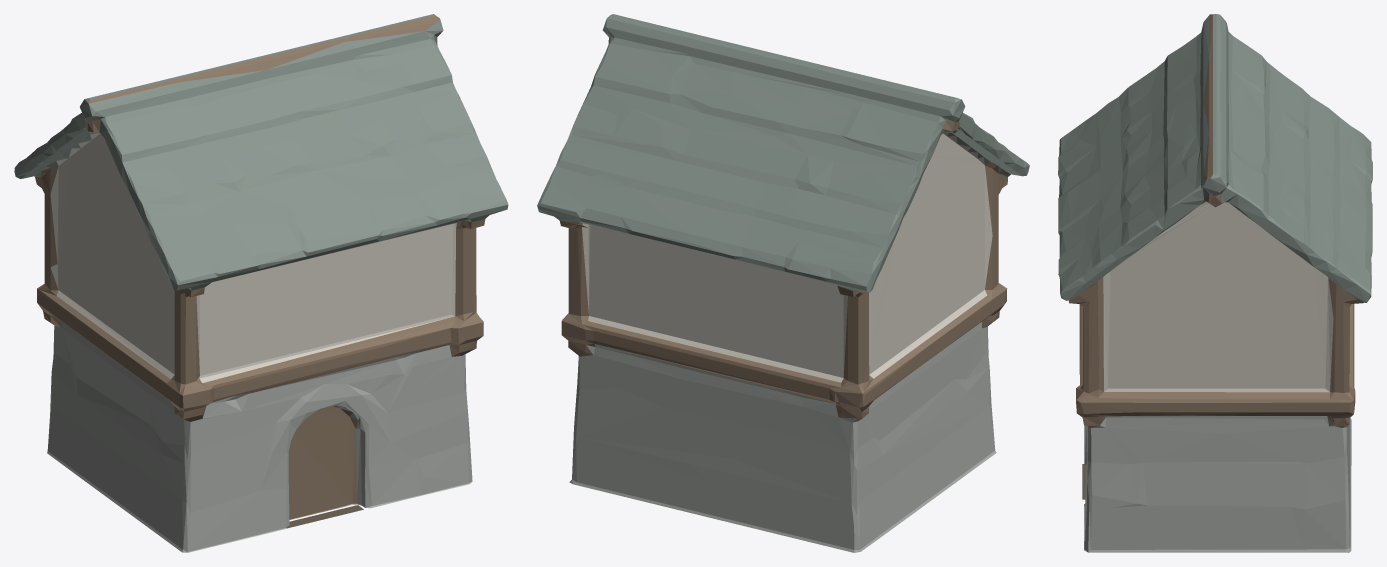
The picture shows the model from 3 angles, left to right: view 1: azimuth 30°, elevation 25°; view 2: azimuth 150°, elevation 25°; view 3: azimuth 270°, elevation 25°; orthographic projection. The views are drawn at different scales.
Parts seen in each view (by area): view 1: geometry_0; view 2: geometry_0; view 3: geometry_0.
Part boxes in pixels (<box>): geometry_0: <box>14,14,508,552</box>; geometry_0: <box>537,14,1029,552</box>; geometry_0: <box>1058,14,1372,552</box>.
Size of the model in its own units: 0.8585 by 0.9563 by 0.6971.
